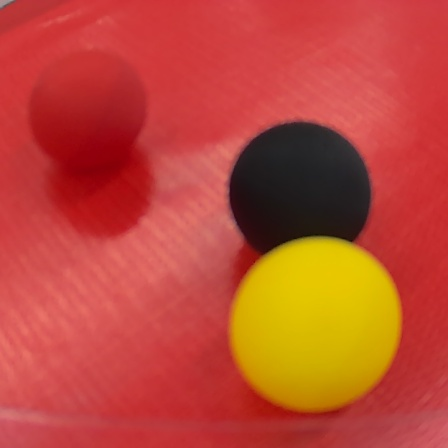black: (229, 123, 371, 255)
red: (33, 55, 146, 173)
red_base: (1, 2, 448, 448)
yellow: (226, 237, 405, 416)
